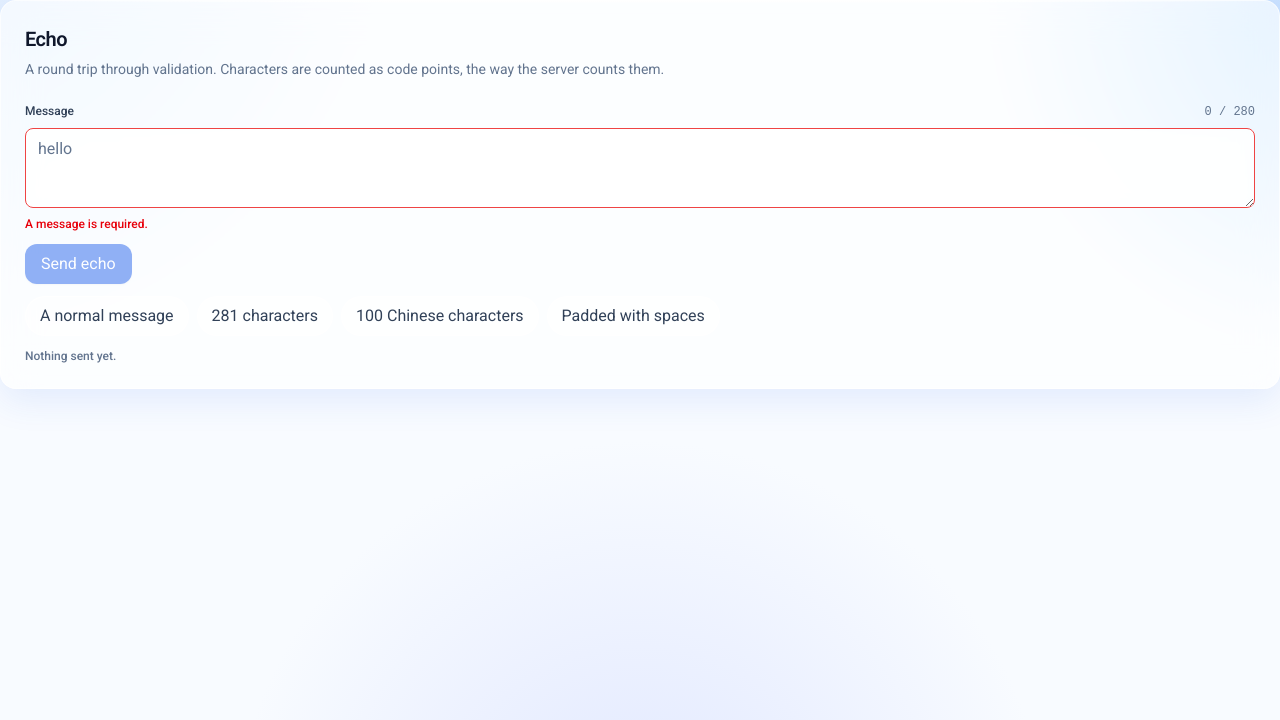
Test: EchoPanel › points out that the server trimmed whitespace before counting
Step 1. Type "   hello   " into the text box labelled "Message" → {"x": 640, "y": 168}, box [25,128,1255,208]
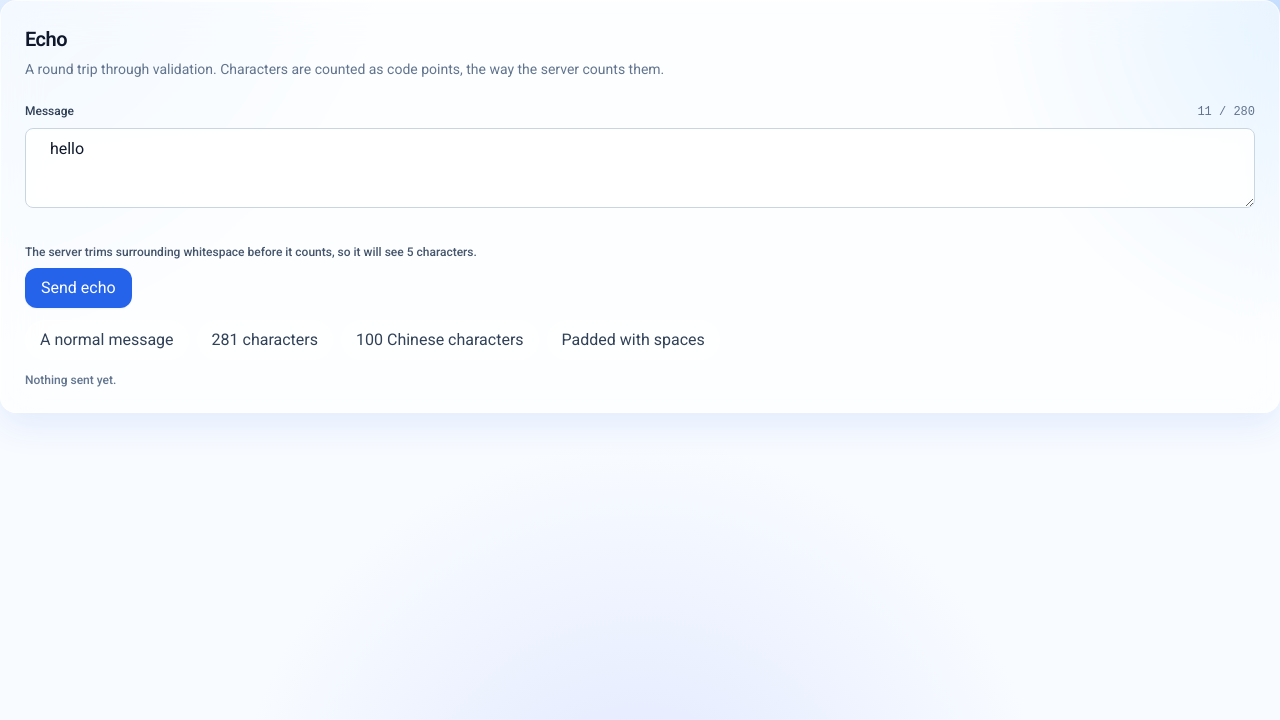
Step 2. Click the button "Send echo" → {"x": 78, "y": 288}, box [25,268,132,308]
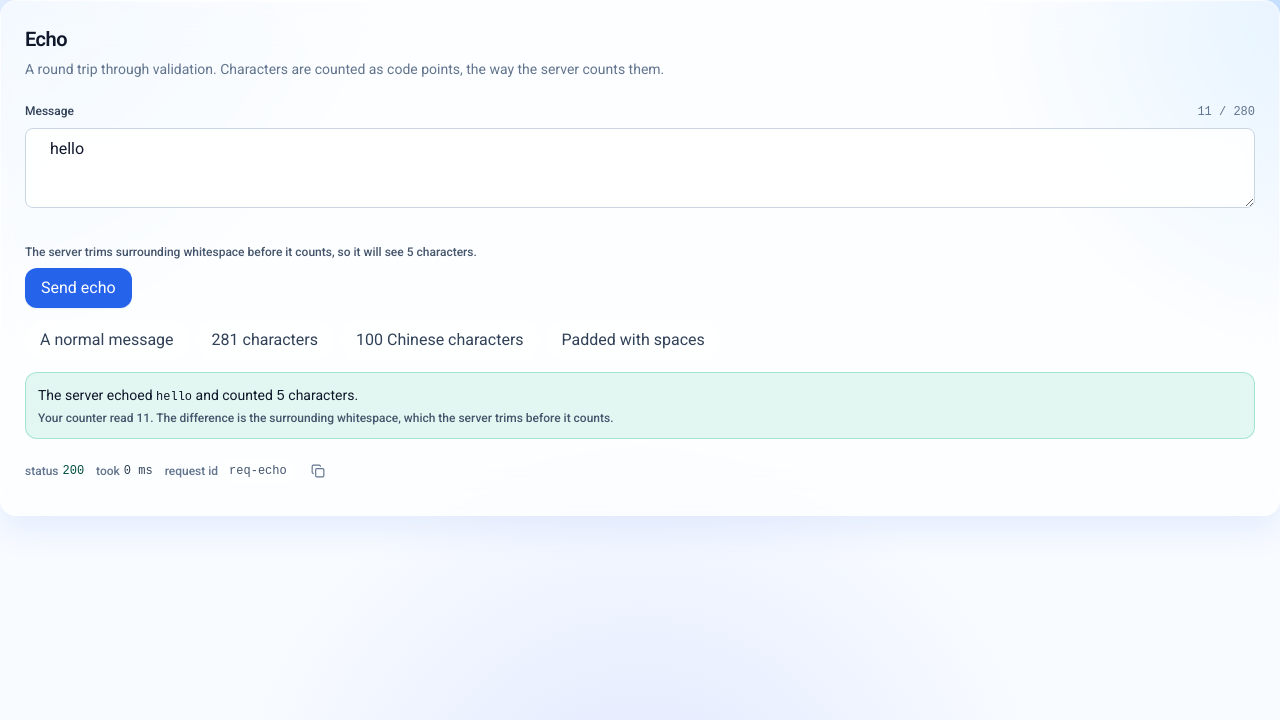
Expected: the text "Your counter read 11" is shown, [38,411,614,425]
